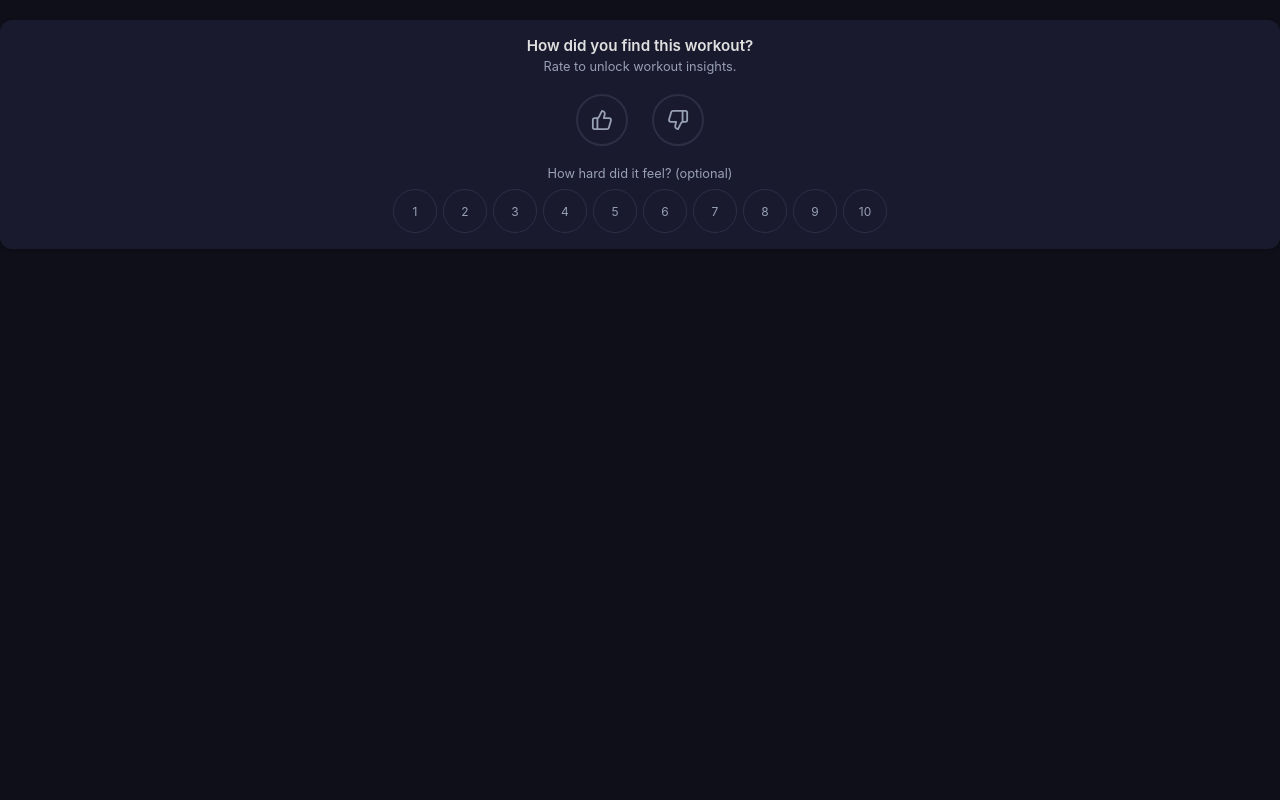
FeedbackPrompt › opens the setback modal on thumbs-down instead of submitting immediately
Click the button with class "feedback-prompt__thumb--down": [678, 120] box [652,94,704,146]
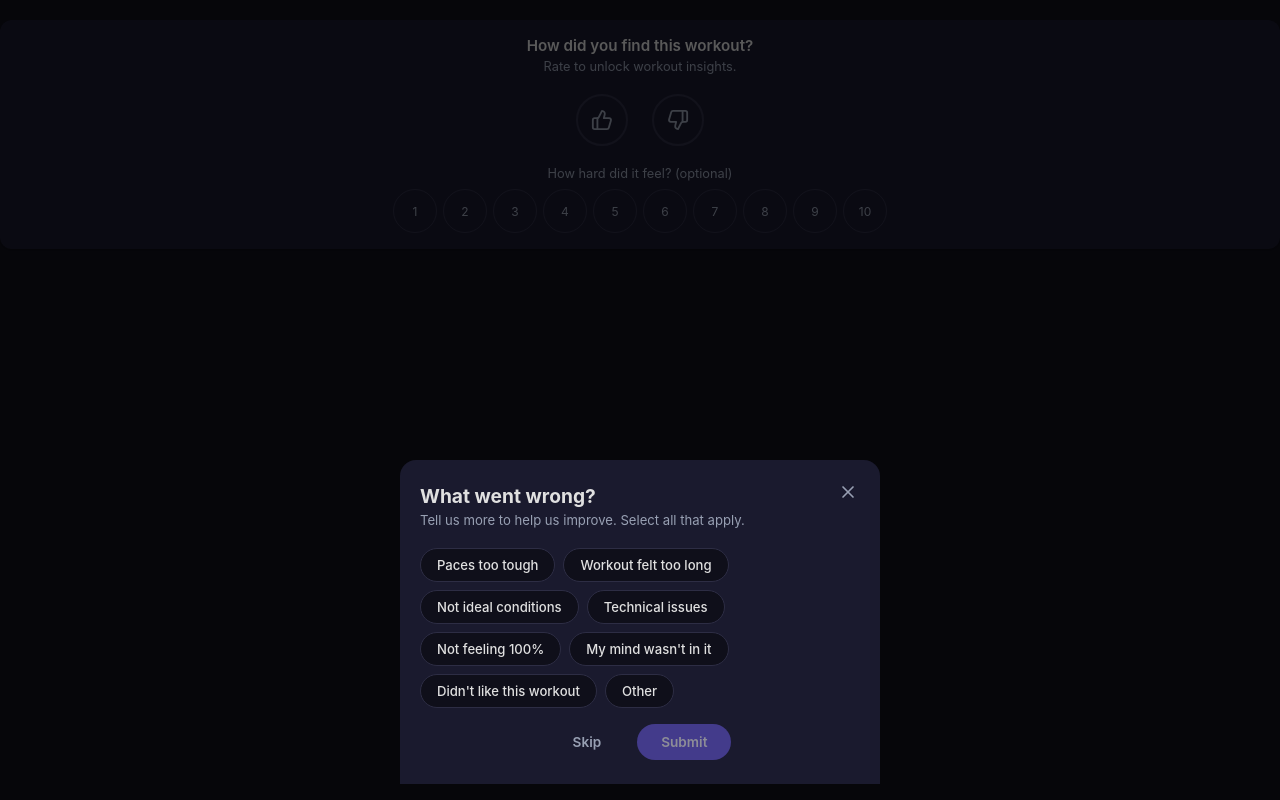
Now the heading "What went wrong?" is shown, box [420,484,596,508]
